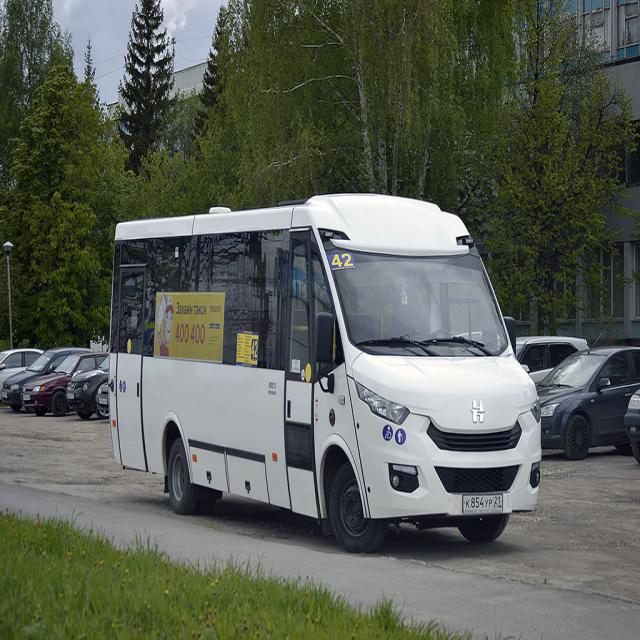number-of-bus: (331, 246, 357, 274)
